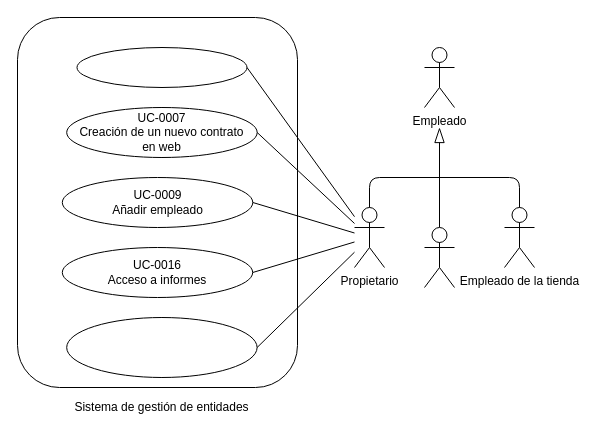
The diagram is 596 pixels wide and 435 high, and some of its shapes have lost their labels. The shapes that lost their labels are listed below. From the top down, each one's centre as x and y in pixels, then its label:
At point (161, 67): "UC-0005 Consulta empleados".
At point (439, 257): "Empleado de almacén".
At point (161, 347): "UC-0020 Modificar datos de empleados".
